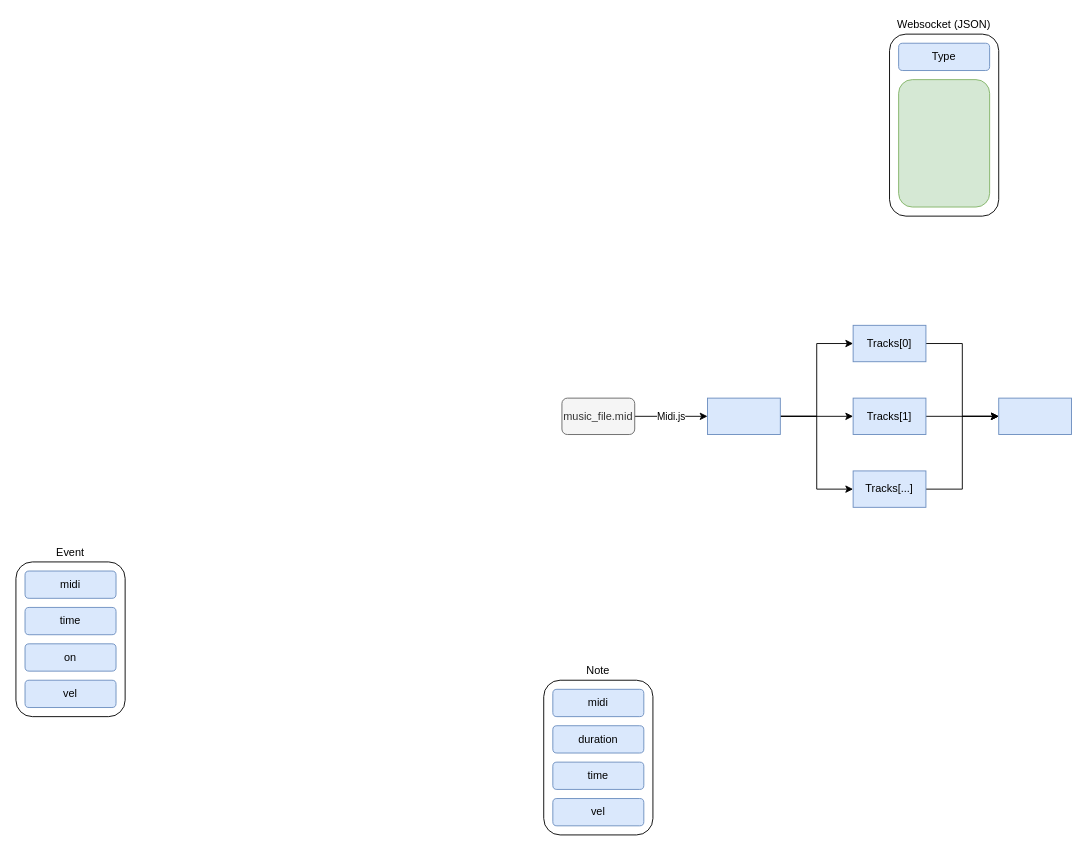
This 1087x851 diagram has some shape labels left out. Each missing label, with the centre of its shape:
"Data" belongs at [944,143].
"Notes[]" belongs at [1035,416].
"Tracks []" belongs at [743,416].
